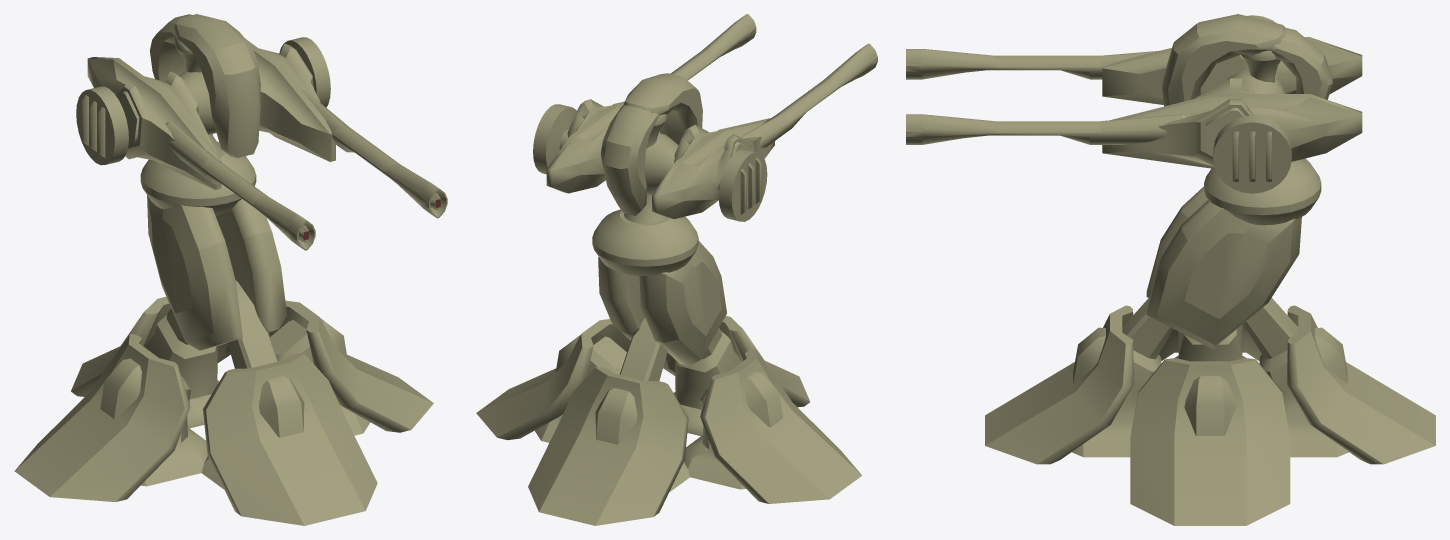
The picture shows the model from 3 angles, left to right: view 1: azimuth 30°, elevation 25°; view 2: azimuth 150°, elevation 25°; view 3: azimuth 270°, elevation 25°; orthographic projection. The views are drawn at different scales.
Visible parts, largest first — view 1: Component_2 (×4), Component_1 (×4), Component_5_1_2, Component_8 (×2), Component_10, Component_10_1_2, Component_5, Component_14, Component_11, Component_6, Component_11_1_2, Component_4 (+1 smaller); view 2: Component_2 (×4), Component_1 (×4), Component_8 (×2), Component_5_1_2, Component_10, Component_6, Component_14, Component_10_1_2, Component_11, Component_5, Component_4, Component_11_1_2 (+1 smaller); view 3: Component_2 (×4), Component_5, Component_1 (×4), Component_10_1_2, Component_8 (×2), Component_11_1_2, Component_10, Component_14, Component_11, Component_6, Component_4, Component_5_1_2 (+1 smaller).
Part boxes in pixels (<box>): Component_2 (×4): <box>14,296,433,525</box>; Component_1 (×4): <box>100,315,370,489</box>; Component_5_1_2: <box>147,195,242,350</box>; Component_8 (×2): <box>150,14,260,157</box>; Component_10: <box>87,57,221,189</box>; Component_10_1_2: <box>246,39,335,161</box>; Component_5: <box>215,199,287,332</box>; Component_14: <box>76,37,330,165</box>; Component_11: <box>165,121,315,250</box>; Component_6: <box>140,141,256,215</box>; Component_11_1_2: <box>301,89,447,218</box>; Component_4: <box>166,280,277,368</box>; Component_2 (×4): <box>476,316,861,525</box>; Component_1 (×4): <box>534,332,782,492</box>; Component_8 (×2): <box>600,73,702,215</box>; Component_5_1_2: <box>639,241,726,366</box>; Component_10: <box>652,118,774,218</box>; Component_6: <box>592,209,698,277</box>; Component_14: <box>533,104,767,221</box>; Component_10_1_2: <box>546,99,659,193</box>; Component_11: <box>743,43,877,147</box>; Component_5: <box>598,257,645,340</box>; Component_4: <box>619,318,722,381</box>; Component_11_1_2: <box>670,14,756,80</box>; Component_2 (×4): <box>985,305,1435,525</box>; Component_5: <box>1146,200,1301,349</box>; Component_1 (×4): <box>1072,325,1348,457</box>; Component_10_1_2: <box>1102,78,1362,168</box>; Component_8 (×2): <box>1162,14,1332,106</box>; Component_11_1_2: <box>906,114,1185,144</box>; Component_10: <box>1102,37,1362,104</box>; Component_14: <box>1213,15,1291,193</box>; Component_11: <box>906,49,1159,79</box>; Component_6: <box>1204,158,1321,225</box>; Component_4: <box>1122,297,1298,359</box>; Component_5_1_2: <box>1146,186,1207,297</box>.
Size of the model in its own units: 13.08 by 15.36 by 13.18.
